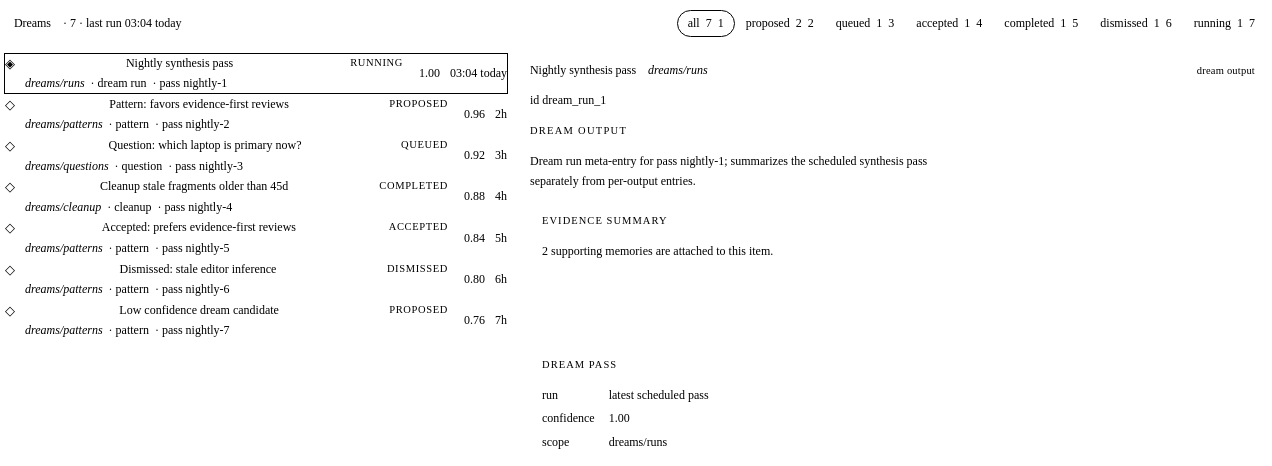
dreams view › dreams filters by status and keeps the selected dream in the Inspector
Click the tab "queued 1 3". click: x=865, y=23
box: [825,10,905,37]
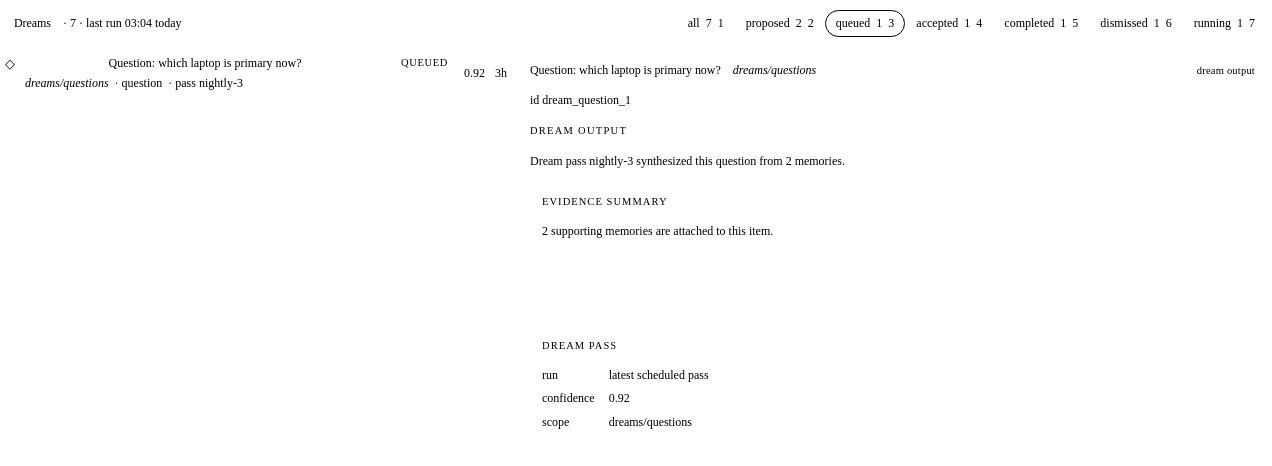
Expected: the 1st text "Question: which laptop is primary now?" is shown, [108,56,302,70]
Expected: the element named "Inspector" shows "Question: which laptop is primary now?", [530,63,721,77]
